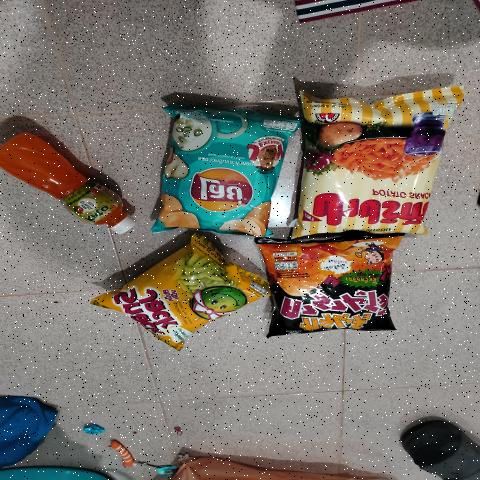karamujo: (280, 243, 387, 329)
lay_blue: (152, 114, 282, 230)
paprika: (296, 82, 454, 228)
snack_jack: (134, 251, 252, 328)
